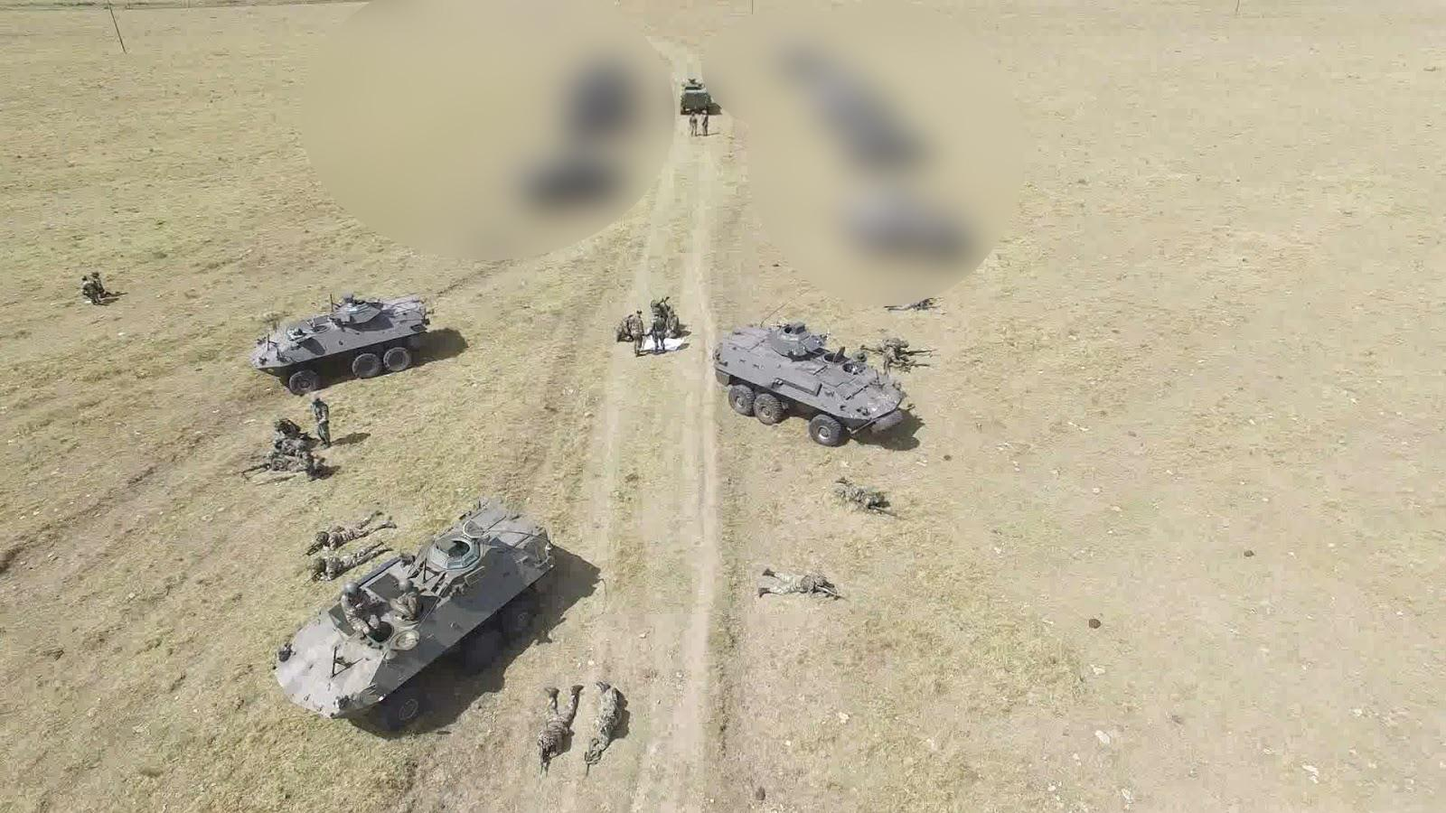armored_car: (276, 497, 560, 727), (715, 322, 910, 447), (250, 293, 455, 395)
